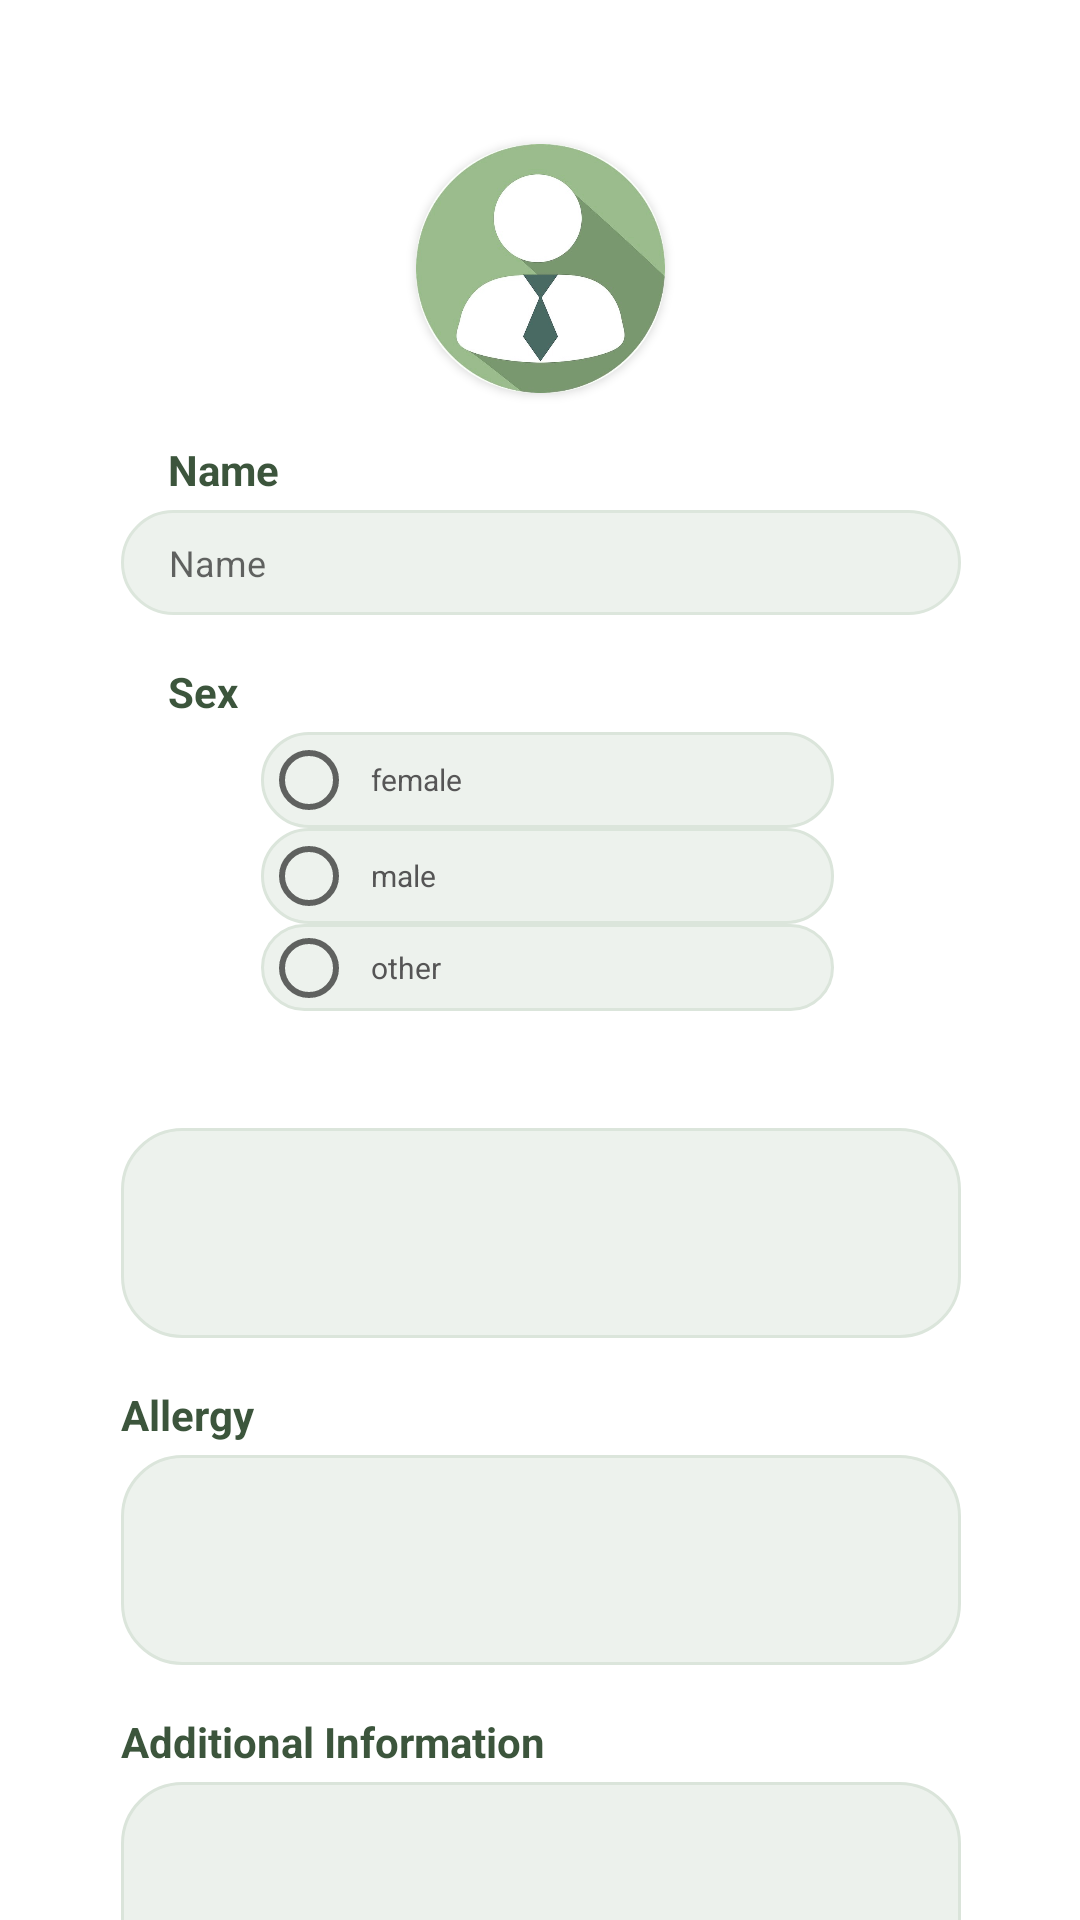

Named icons in this screenshot (1080 × 1920) and their centers, (x,y):
patiet: (540,268)
